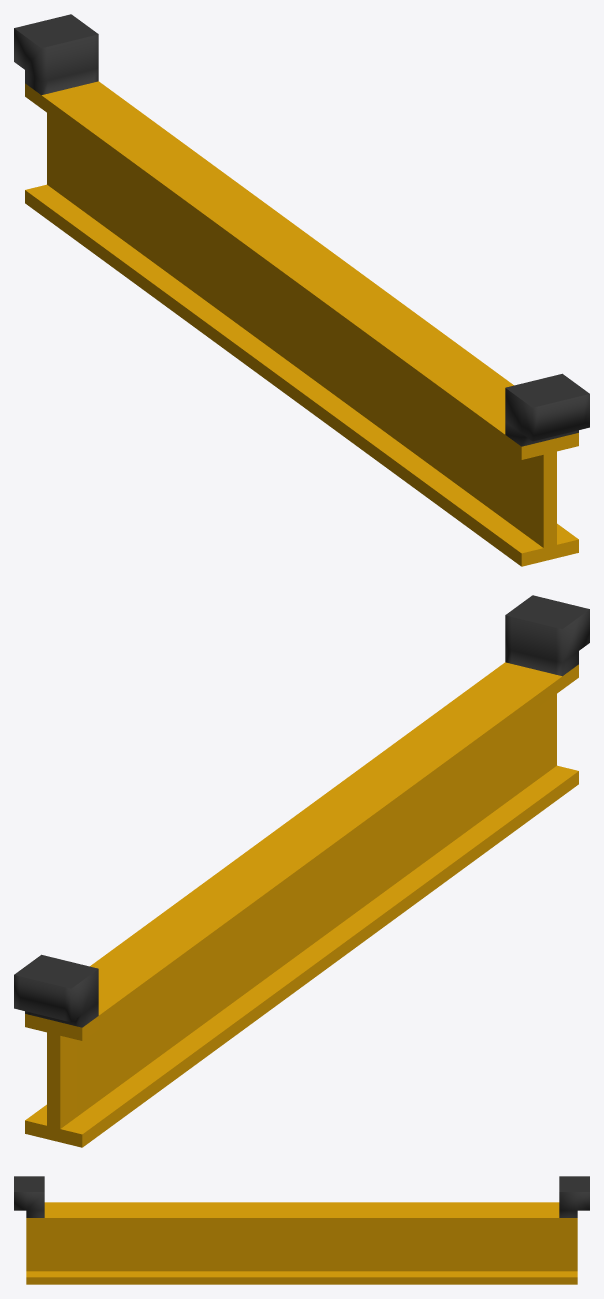
Rendered from Crane_Girder_16ft.fbx.
3 views of the same model, one above another, from view 1: azimuth 30°, elevation 25°; view 2: azimuth 150°, elevation 25°; view 3: azimuth 270°, elevation 25° (orthographic). The views are drawn at different scales.
Visible parts, largest first — view 1: Girder_16ft; view 2: Girder_16ft; view 3: Girder_16ft.
Part boxes in pixels (x1,y1,x2,y2): Girder_16ft: [14, 14, 589, 566]; Girder_16ft: [14, 595, 589, 1147]; Girder_16ft: [14, 1176, 589, 1284].
Bounding box in the file's own units: 30.48 × 84.85 × 478.
